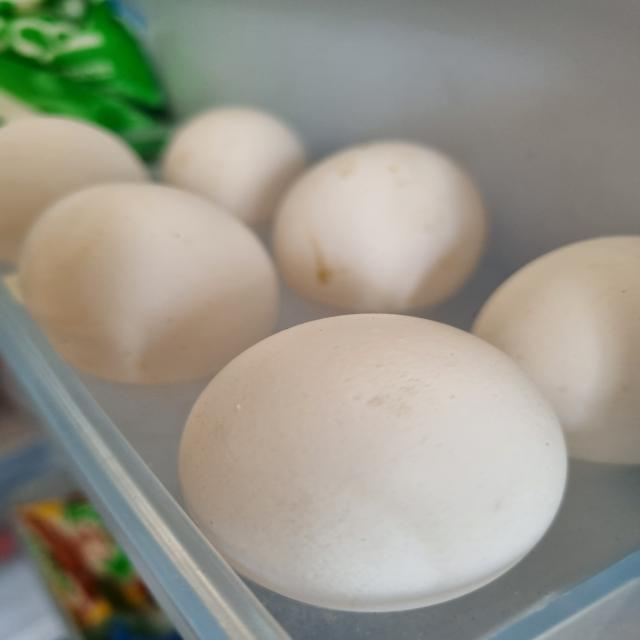Egg: (167, 300, 588, 610), (20, 186, 285, 384), (265, 128, 490, 306)
